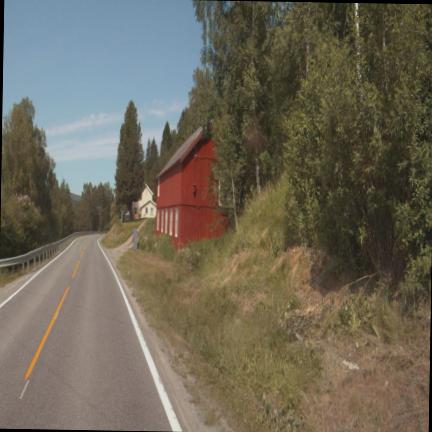Road: (0, 236, 173, 431)
